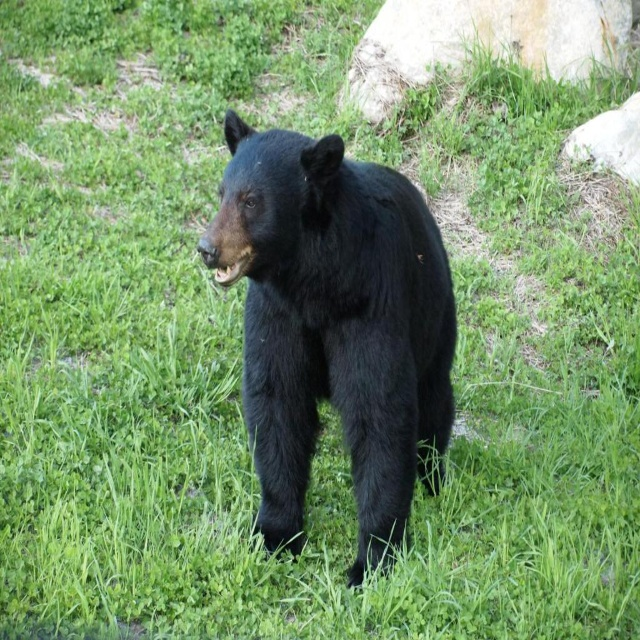Bear: (196, 109, 456, 589)
